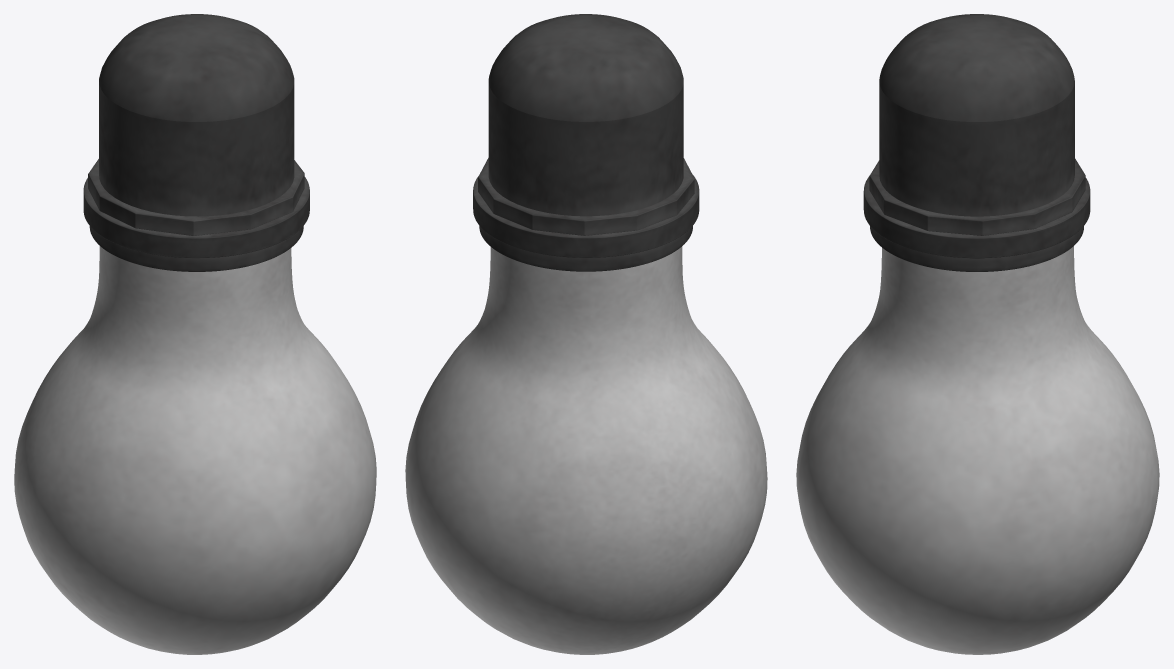
Rendered from SM_hanginglight_nowire_01a.fbx.
3 views of the same model, side by side, from view 1: azimuth 30°, elevation 25°; view 2: azimuth 150°, elevation 25°; view 3: azimuth 270°, elevation 25° (orthographic).
Visible parts, largest first — view 1: SM_hanginglight_nowire_01a_LOD0; view 2: SM_hanginglight_nowire_01a_LOD0; view 3: SM_hanginglight_nowire_01a_LOD0.
Boxes of the visible parts, <box> form: SM_hanginglight_nowire_01a_LOD0: <box>14,14,376,654</box>; SM_hanginglight_nowire_01a_LOD0: <box>405,14,767,654</box>; SM_hanginglight_nowire_01a_LOD0: <box>796,14,1159,654</box>.
Bounding box in the file's own units: 11.88 × 11.88 × 21.73.
